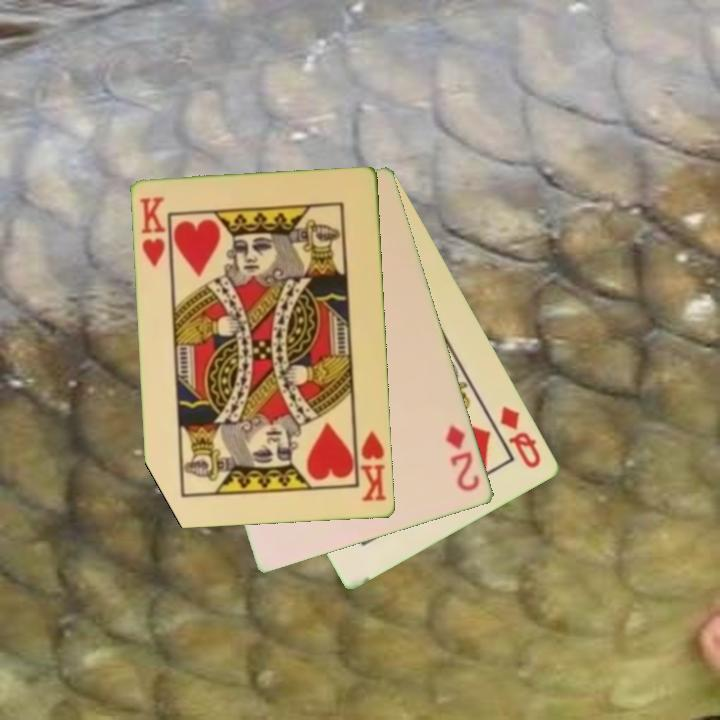2d: (442, 421, 483, 495)
Kh: (352, 425, 390, 505), (136, 193, 169, 270)
Qd: (496, 402, 545, 472)
